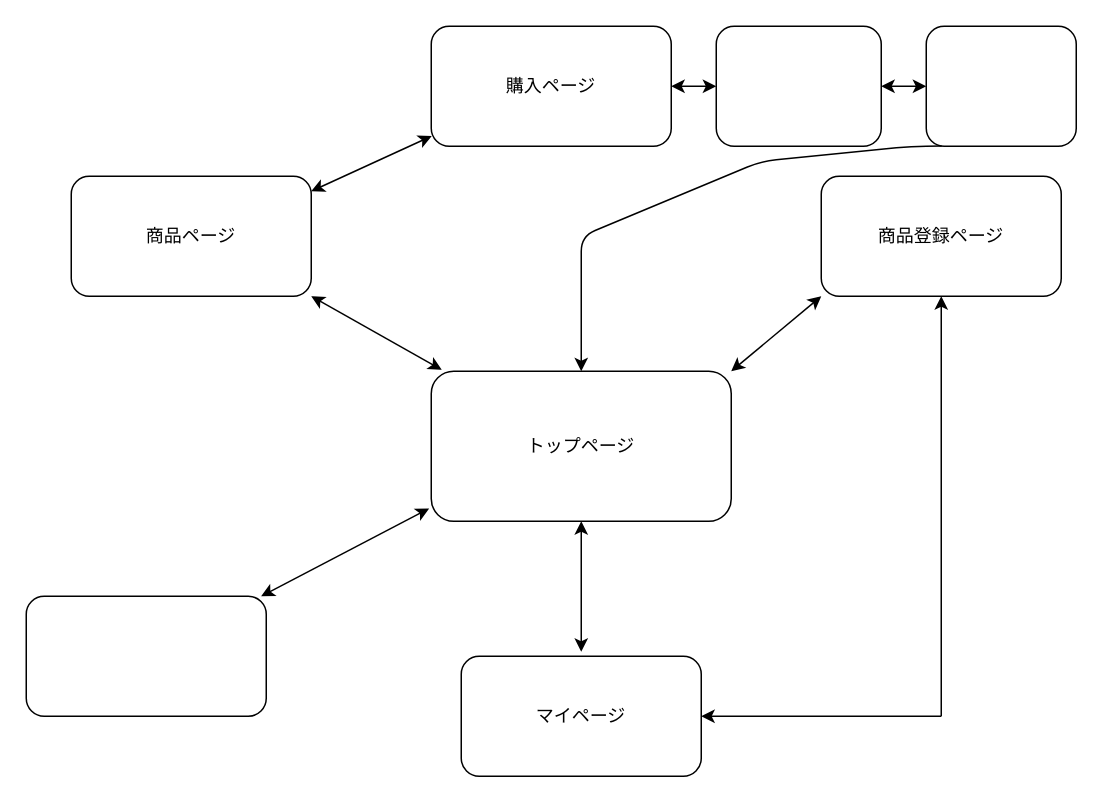
This 1103x803 diagram has some shape labels left out. The centre of each missing label's shape, as x and y in pixels:
"ログインページ" belongs at point 145,655.
"購入確定ページ" belongs at point 1000,85.
"購入確認ページ" belongs at point 798,85.
